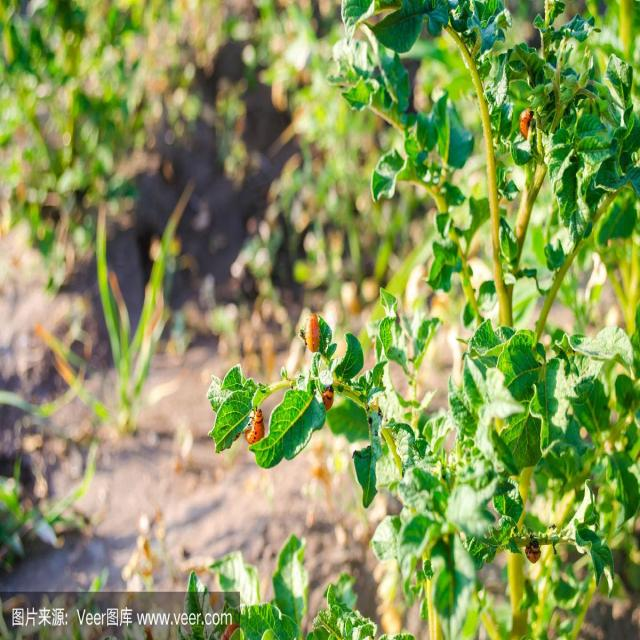ShuCaiHuaBanChong-Larva-: (300, 308, 326, 358), (245, 406, 272, 451)
